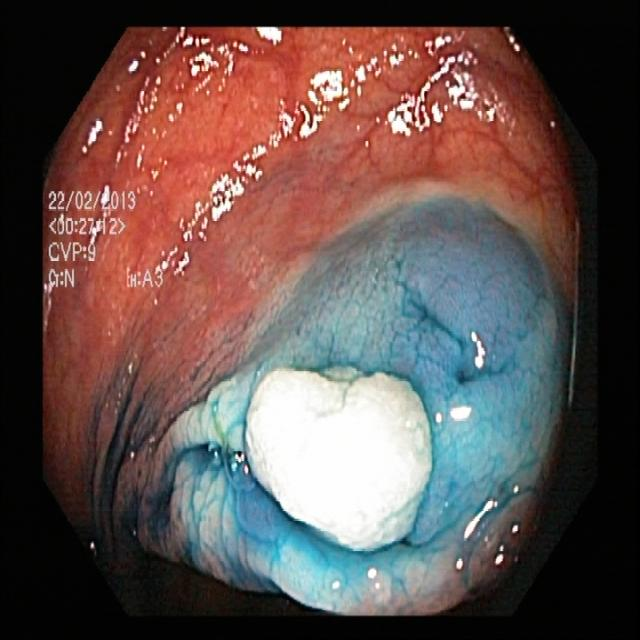dyed-lifted-polyps: (241, 355, 447, 557)
